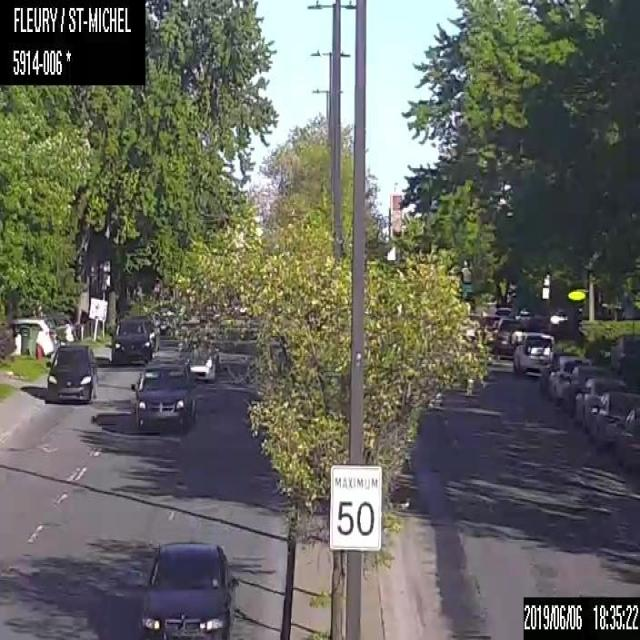vehicle: (135, 537, 233, 639), (128, 360, 200, 432), (45, 340, 98, 403), (589, 388, 638, 449), (108, 315, 154, 366), (509, 328, 555, 378), (548, 355, 591, 404), (7, 315, 58, 354), (493, 316, 524, 362), (619, 405, 639, 472), (183, 346, 218, 381)
